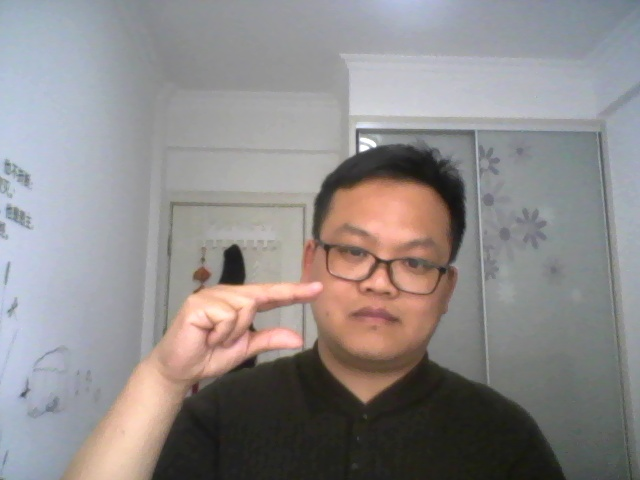No: (142, 277, 331, 380)
